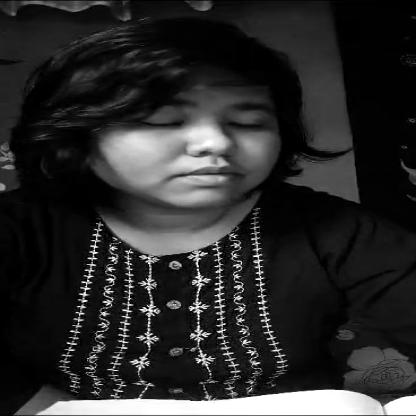Distracted: (41, 26, 310, 232)
